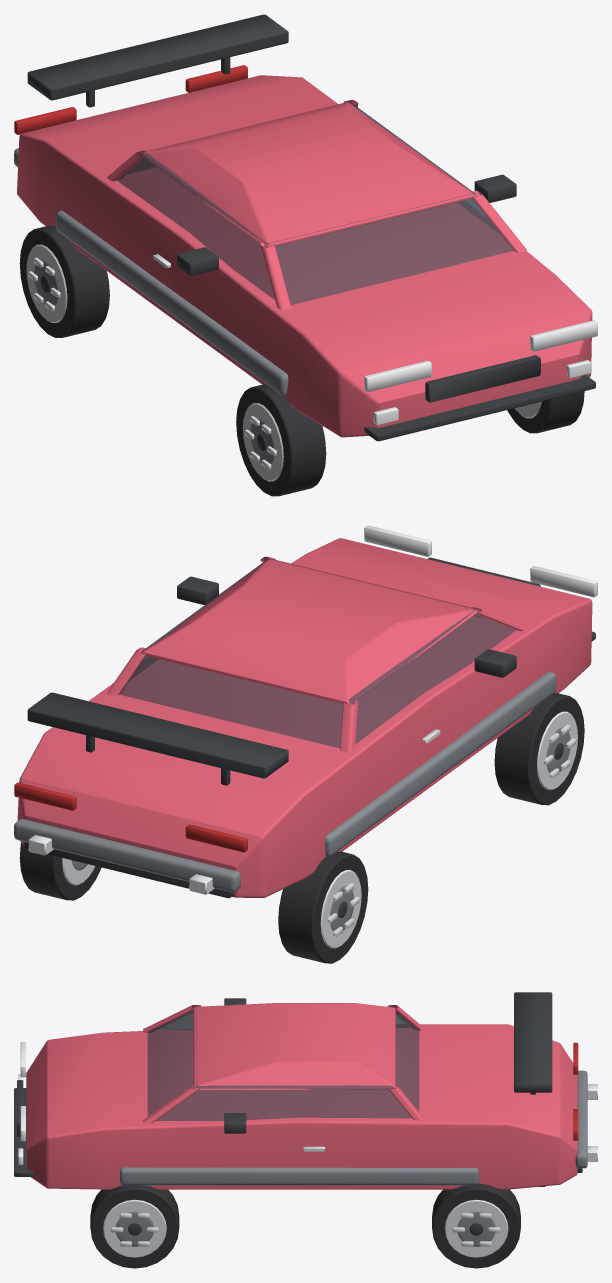
Rendered from vesper-gt.glb.
3 views of the same model, one above another, from view 1: azimuth 30°, elevation 25°; view 2: azimuth 150°, elevation 25°; view 3: azimuth 270°, elevation 25° (orthographic). The views are drawn at different scales.
Parts seen in each view (by area): view 1: paint, glass, trim, tyre, accent, rim, head, tail; view 2: paint, glass, tyre, trim, accent, rim, head, tail; view 3: paint, glass, accent, tyre, trim, rim, head, tail.
Boxes of the visible parts, x1,y1,x2,y2 form: paint: (17, 75, 592, 437); glass: (117, 102, 513, 304); trim: (27, 14, 595, 450); tyre: (19, 226, 584, 496); accent: (14, 148, 288, 463); rim: (26, 244, 541, 481); head: (364, 320, 597, 425); tail: (14, 65, 247, 134); paint: (17, 538, 592, 897); glass: (119, 559, 515, 748); tyre: (19, 693, 584, 963); trim: (24, 557, 595, 918); accent: (14, 671, 570, 931); rim: (28, 711, 577, 948); head: (364, 525, 597, 597); tail: (14, 782, 247, 852); paint: (26, 1003, 577, 1189); glass: (147, 1006, 419, 1120); accent: (116, 1070, 587, 1246); tyre: (90, 1183, 520, 1268); trim: (14, 992, 582, 1235); rim: (103, 1084, 597, 1257); head: (18, 1042, 25, 1164); tail: (573, 1042, 578, 1140).
Bounding box in the file's own units: 2.42 × 1.61 × 4.74.
